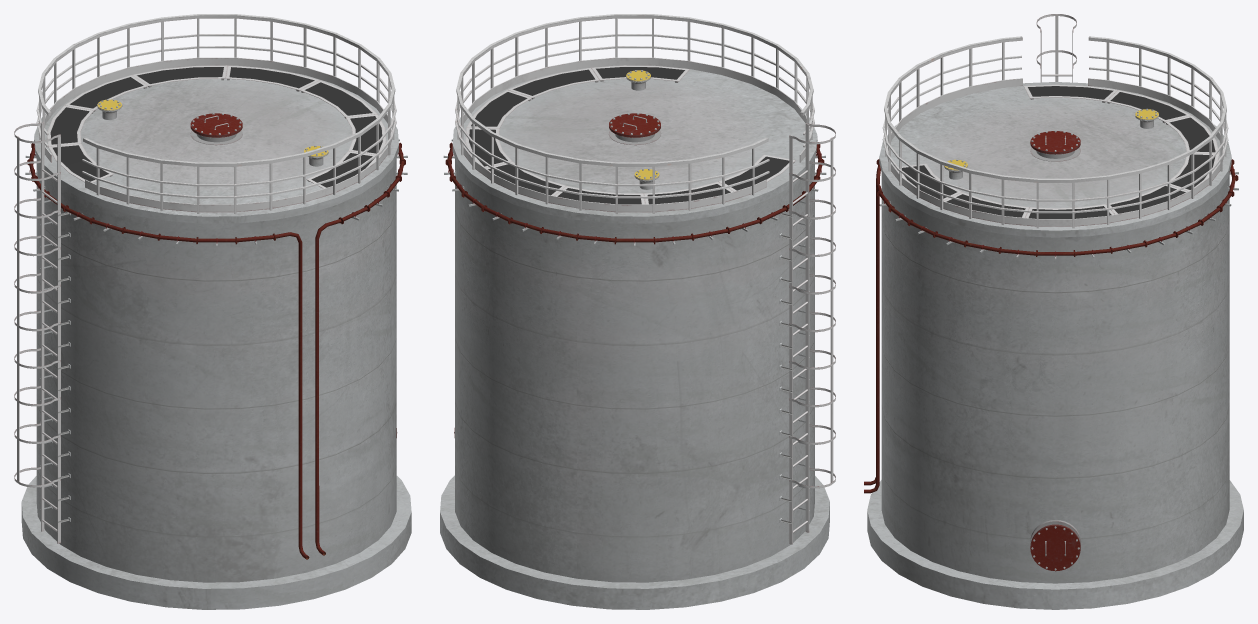
Rendered from SM05_Industrial_StorageTank.fbx.
3 views of the same model, side by side, from view 1: azimuth 30°, elevation 25°; view 2: azimuth 150°, elevation 25°; view 3: azimuth 270°, elevation 25° (orthographic). The views are drawn at different scales.
Visible parts, largest first — view 1: SM05_Industrial_StorageTank; view 2: SM05_Industrial_StorageTank; view 3: SM05_Industrial_StorageTank.
Boxes of the visible parts, box(x1,y1,x2,y2) form: SM05_Industrial_StorageTank: box(14, 14, 411, 609); SM05_Industrial_StorageTank: box(440, 14, 835, 609); SM05_Industrial_StorageTank: box(864, 14, 1243, 609).
Size of the model in its own units: 13 by 14.76 by 12.01.
